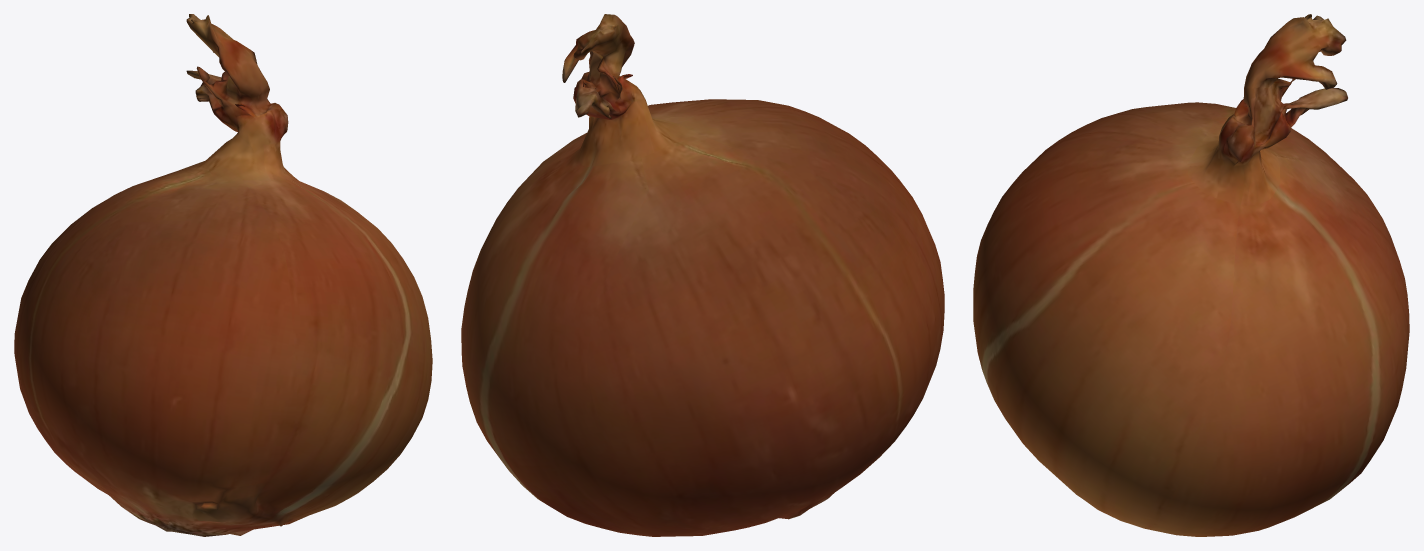
Rendered from yellow_onion.glb.
3 renders of one model, left to right at view 1: azimuth 30°, elevation 25°; view 2: azimuth 150°, elevation 25°; view 3: azimuth 270°, elevation 25°, orthographic. The views are drawn at different scales.
Visible parts, largest first — view 1: yellow_onion; view 2: yellow_onion; view 3: yellow_onion.
Part boxes in pixels (x1,y1,x2,y2): yellow_onion: [14, 14, 432, 536]; yellow_onion: [461, 14, 944, 536]; yellow_onion: [973, 14, 1409, 536].
Size of the model in its own units: 0.0725 by 0.0864 by 0.0686.
1 material, 1 textured.
